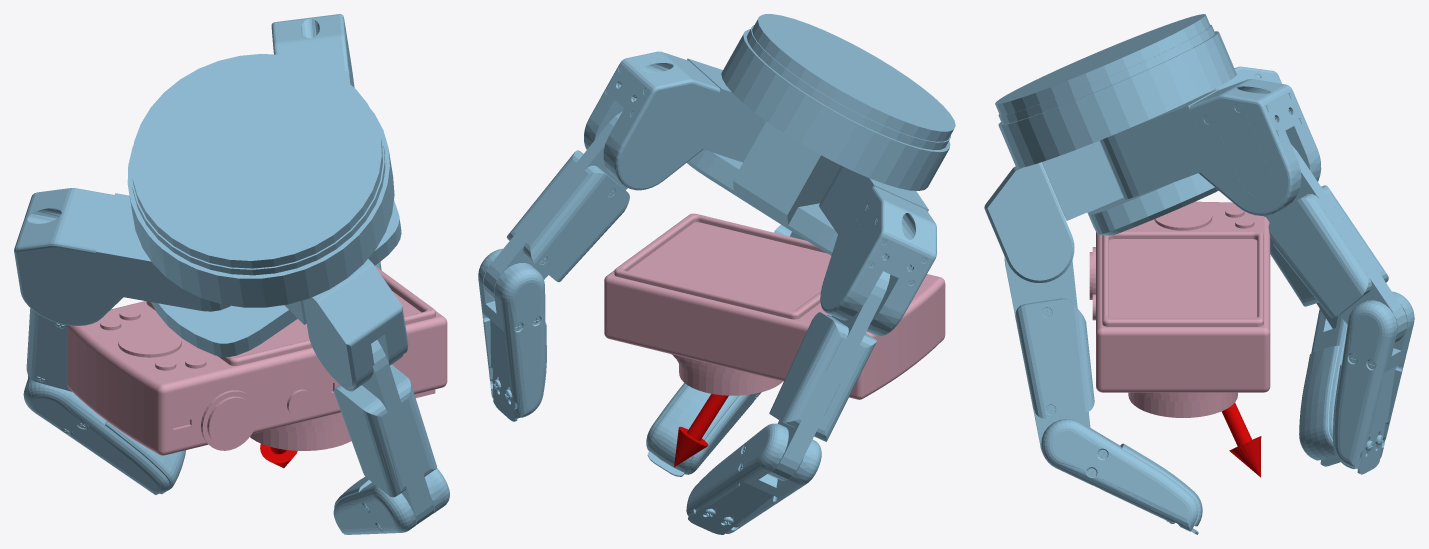
3 views of the same model, side by side, from view 1: azimuth 30°, elevation 25°; view 2: azimuth 150°, elevation 25°; view 3: azimuth 270°, elevation 25° (orthographic). The views are drawn at different scales.
Parts seen in each view (by area): view 1: world, camera.stl; view 2: world, camera.stl; view 3: world, camera.stl.
Boxes of the visible parts, box(x1,y1,x2,y2) form: world: box(14, 14, 449, 534); camera.stl: box(67, 266, 447, 455); world: box(478, 14, 955, 534); camera.stl: box(604, 213, 945, 399); world: box(984, 14, 1414, 534); camera.stl: box(1089, 201, 1270, 417).
Size of the model in its own units: 0.1685 by 0.1888 by 0.1597.
